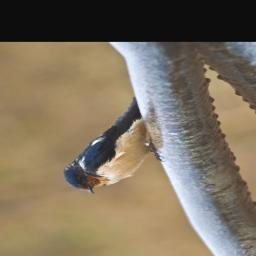Swallow: (29, 97, 183, 200)
